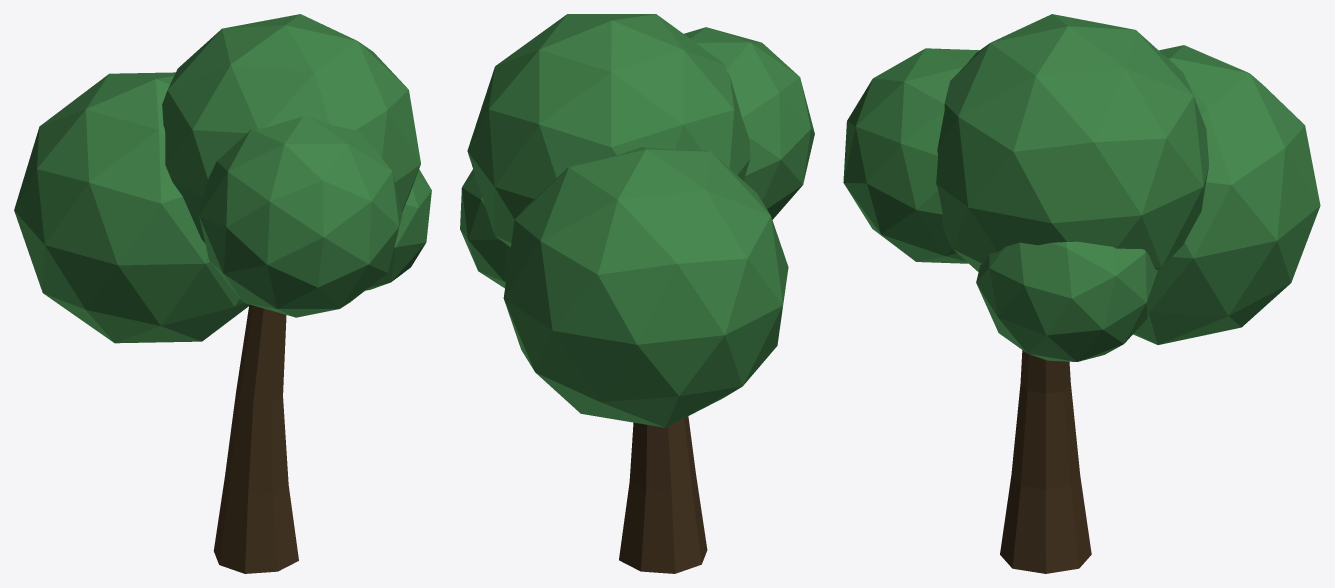
Rendered from Tree.002.fbx.
3 views of the same model, side by side, from view 1: azimuth 30°, elevation 25°; view 2: azimuth 150°, elevation 25°; view 3: azimuth 270°, elevation 25° (orthographic). The views are drawn at different scales.
Visible parts, largest first — view 1: Icosphere.003, Tree.002; view 2: Icosphere.003, Tree.002; view 3: Icosphere.003, Tree.002.
Part boxes in pixels (x1=…): Icosphere.003: x1=14, y1=14, x2=431, y2=343; Tree.002: x1=213, y1=304, x2=298, y2=573; Icosphere.003: x1=460, y1=14, x2=814, y2=427; Tree.002: x1=619, y1=416, x2=707, y2=573; Icosphere.003: x1=843, y1=14, x2=1320, y2=361; Tree.002: x1=1000, y1=350, x2=1091, y2=573.
Size of what is drawn, in the model's own units: 795 by 1148 by 905.
